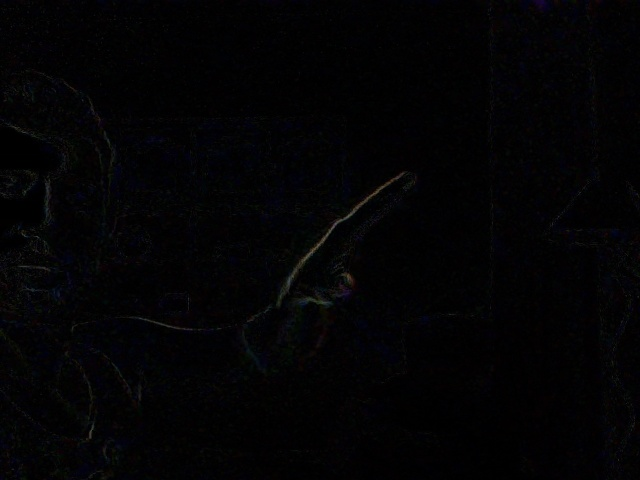hand_pa: (277, 152, 427, 341)
